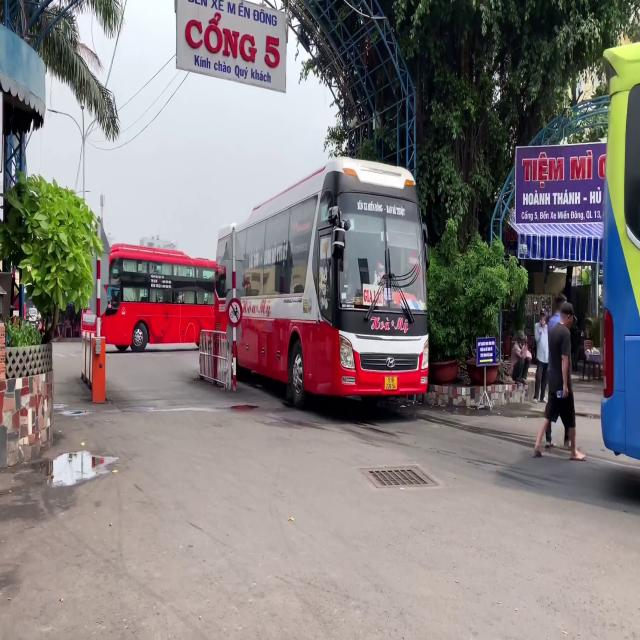bien_vang: (384, 376, 397, 390)
